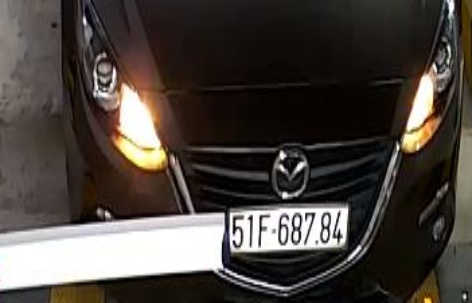plate: (225, 198, 352, 255)
